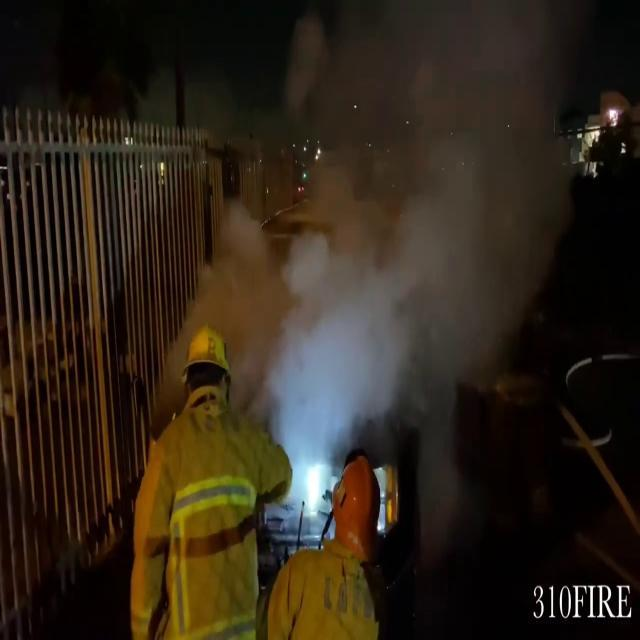Smoke: (267, 0, 577, 568)
